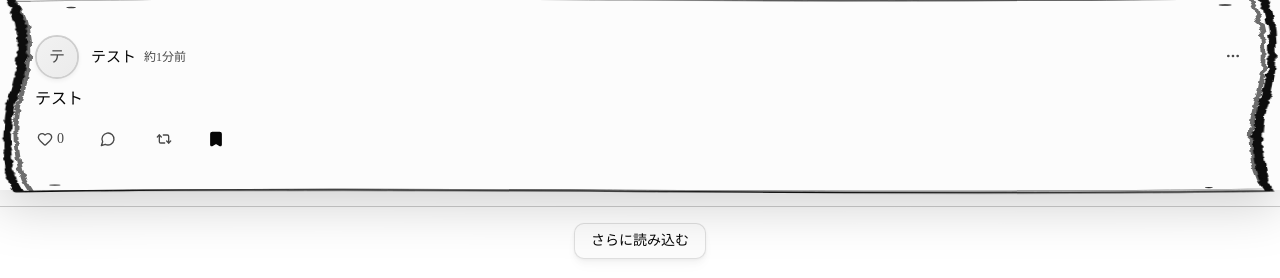
Test: BookmarkPostList › 読み込み中はボタンが無効化される
Click the button "さらに読み込む". click: [640, 241]
box: [574, 223, 706, 259]
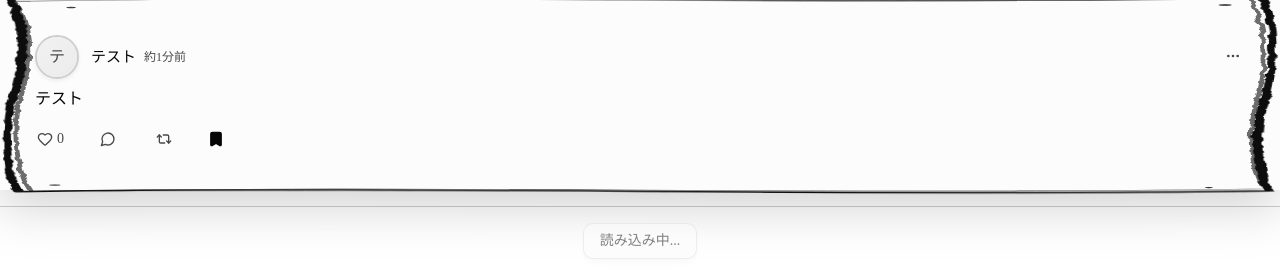
Expected: the button "読み込み中..." is shown, [583, 223, 697, 259]
